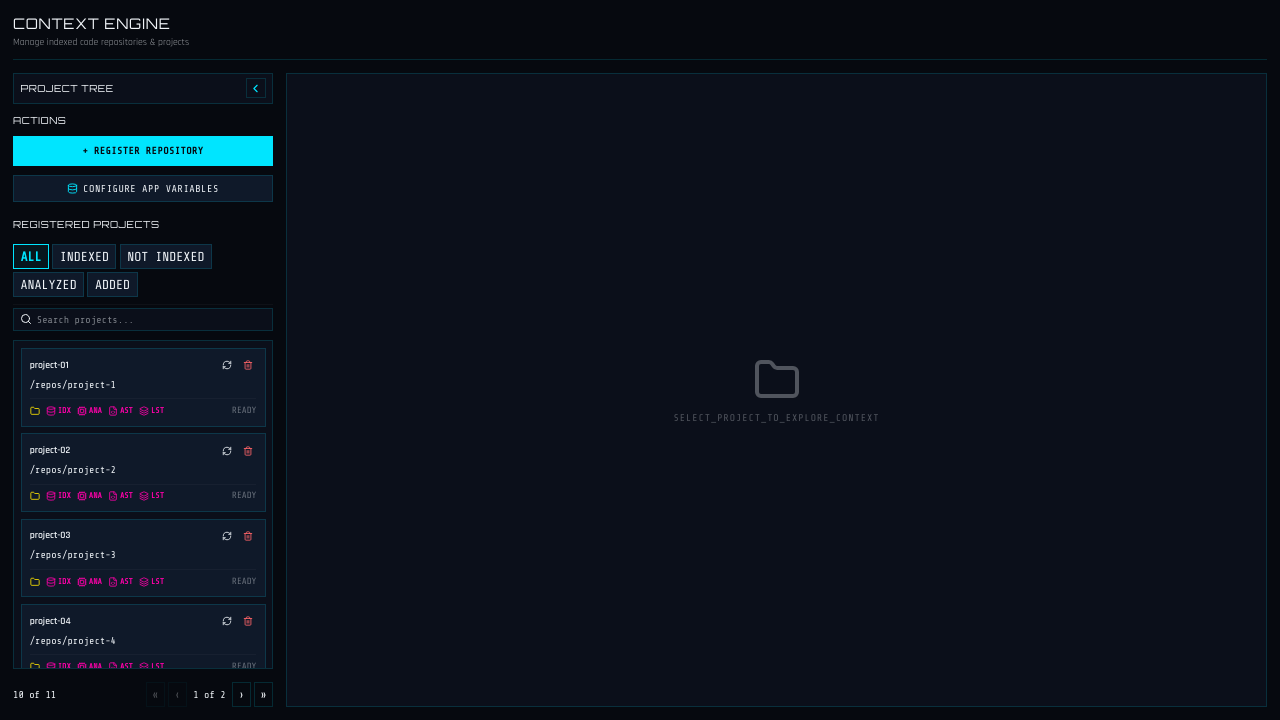
Scenario: ContextView - Sync Audit Trail › loads ten name-ordered projects at a time when pagination changes
Expected: the text "project-01" is shown, [30,359,69,372]
Expected: the text "project-11" is not shown
Click the button named "Next page" at [242, 695], box [232,682,251,707]
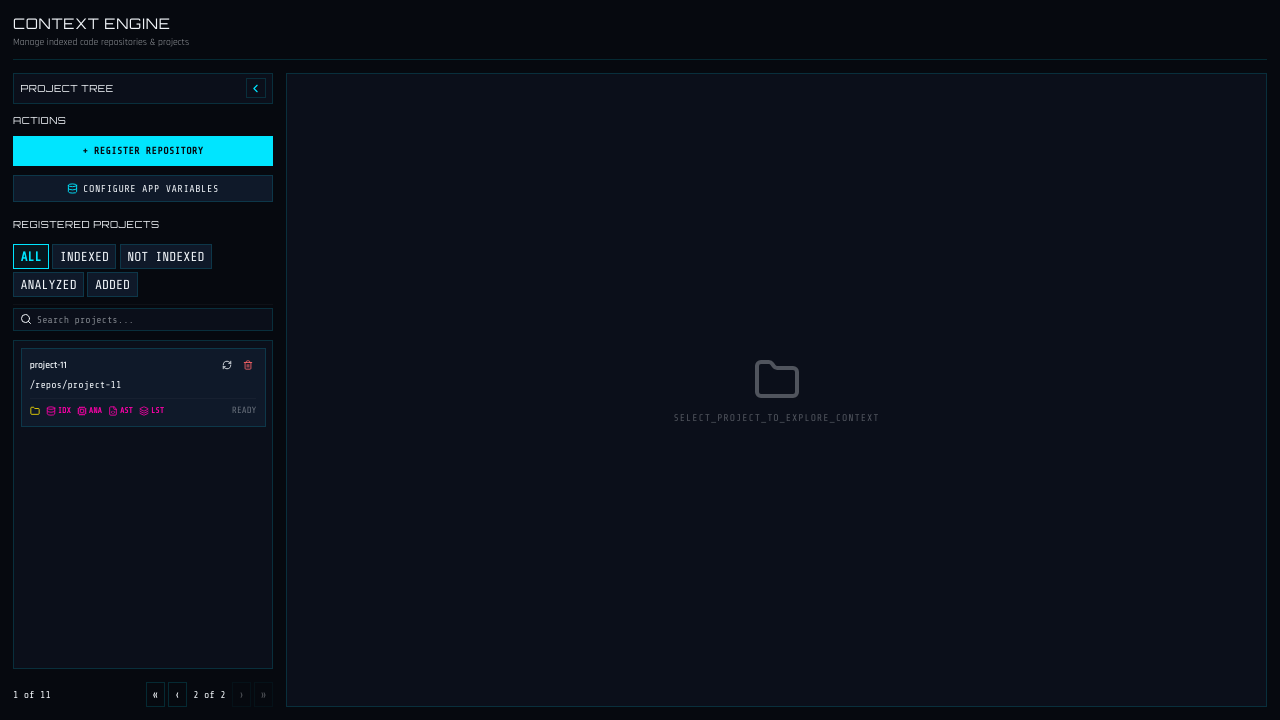
Result: the text "project-11" is shown at [30,359,67,372]
